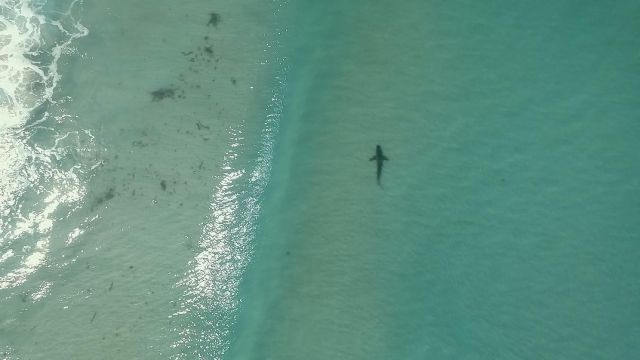shark: (366, 141, 389, 190)
